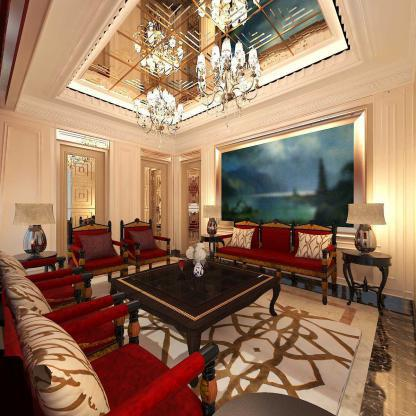bantal: (297, 234, 320, 261), (231, 228, 253, 250)
kursi: (66, 220, 128, 281), (125, 218, 174, 272)
lampu: (12, 201, 57, 254), (342, 205, 390, 254)
meja: (109, 257, 299, 360)
sova: (210, 220, 341, 302)
